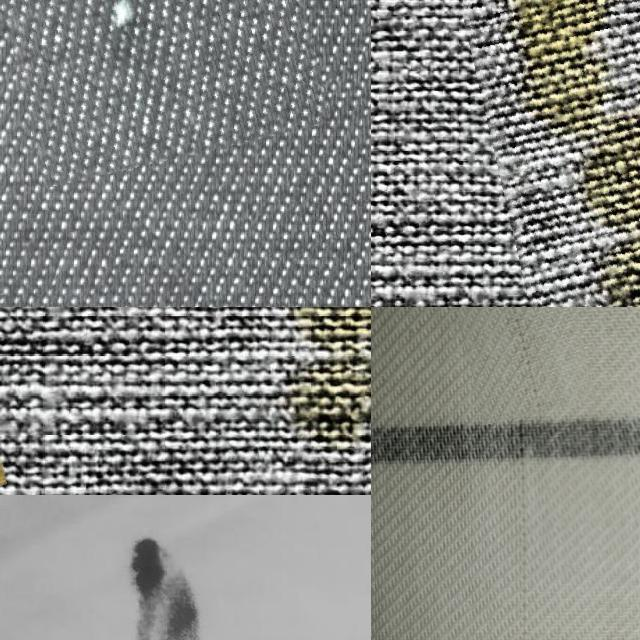Thread_other: (472, 0, 640, 307), (49, 496, 273, 640), (209, 307, 371, 453)
stains: (453, 307, 587, 419), (484, 464, 558, 638)
